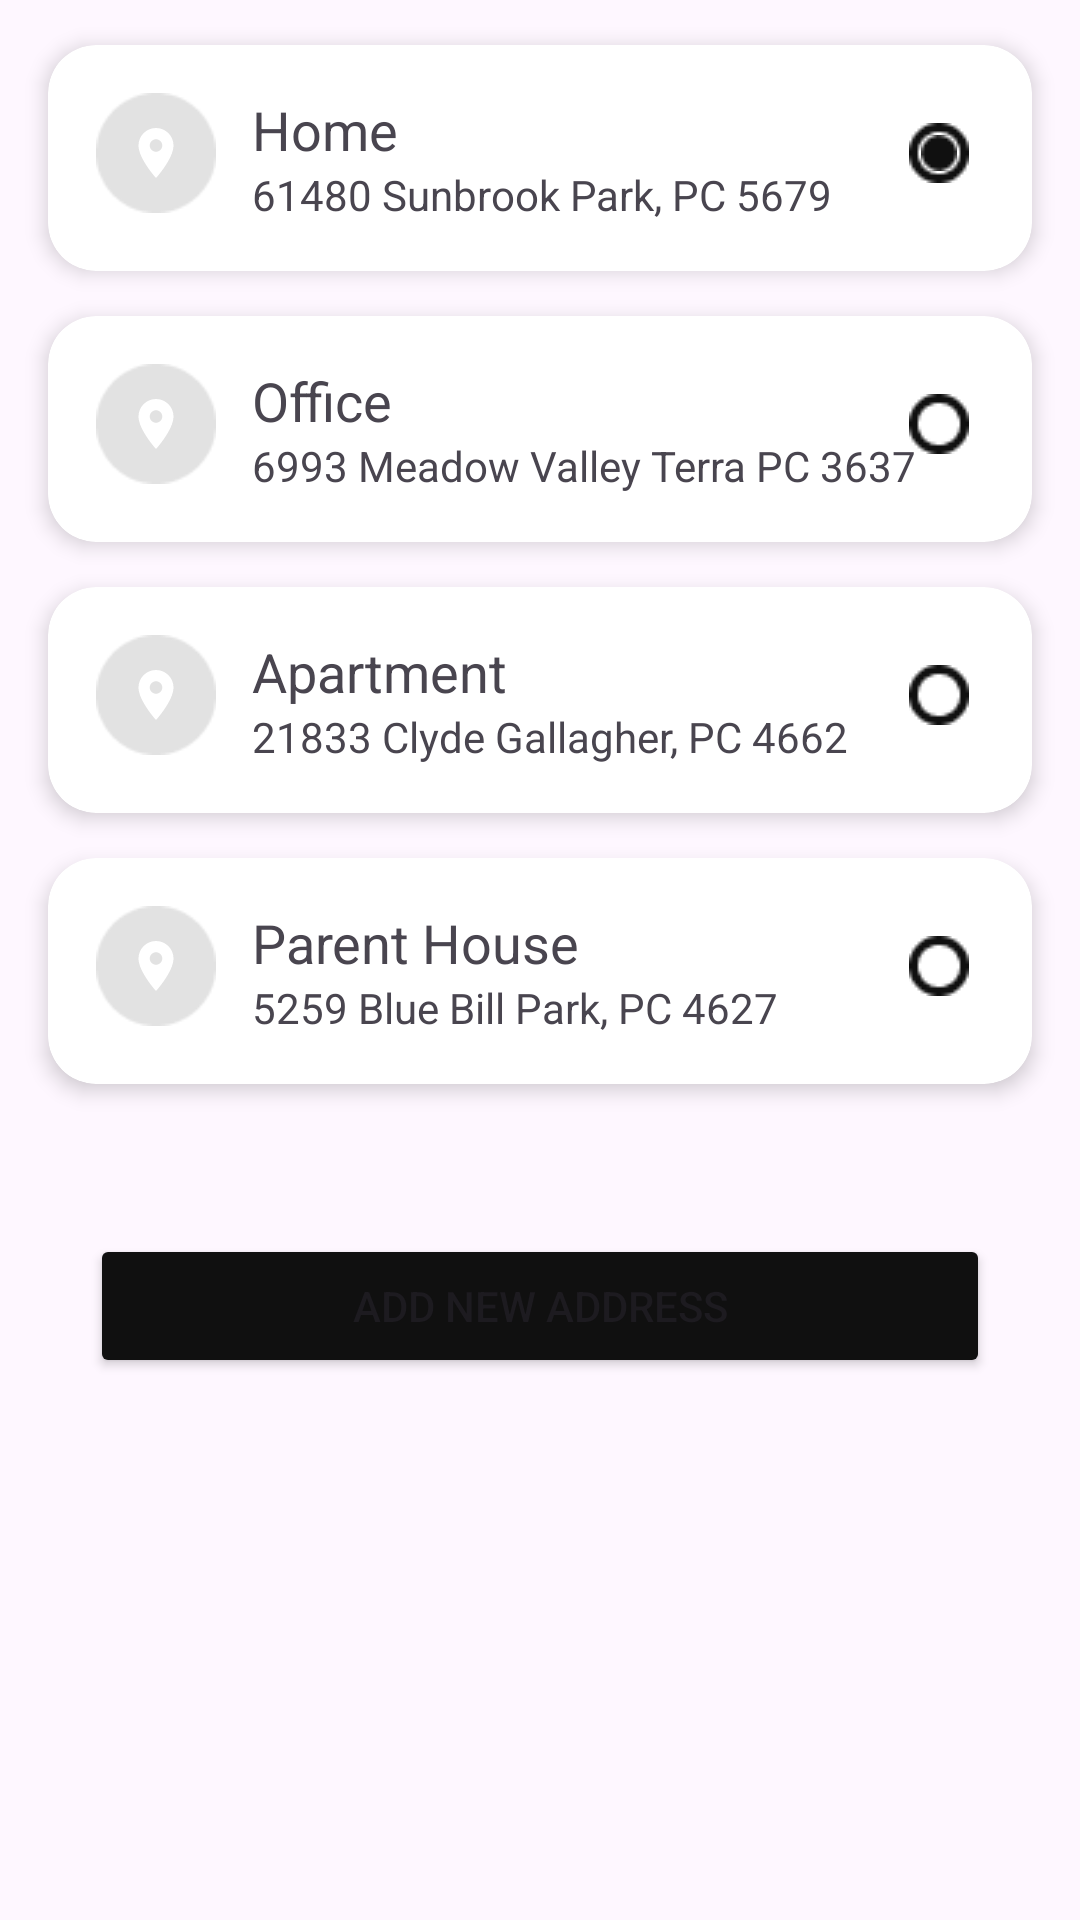

Icon bounding boxes for this 1080×1920 phone screenshot, format (x1, y1, x2, y2):
location on: (139, 128, 173, 177), (139, 399, 173, 448), (139, 670, 173, 719), (139, 941, 173, 990)
